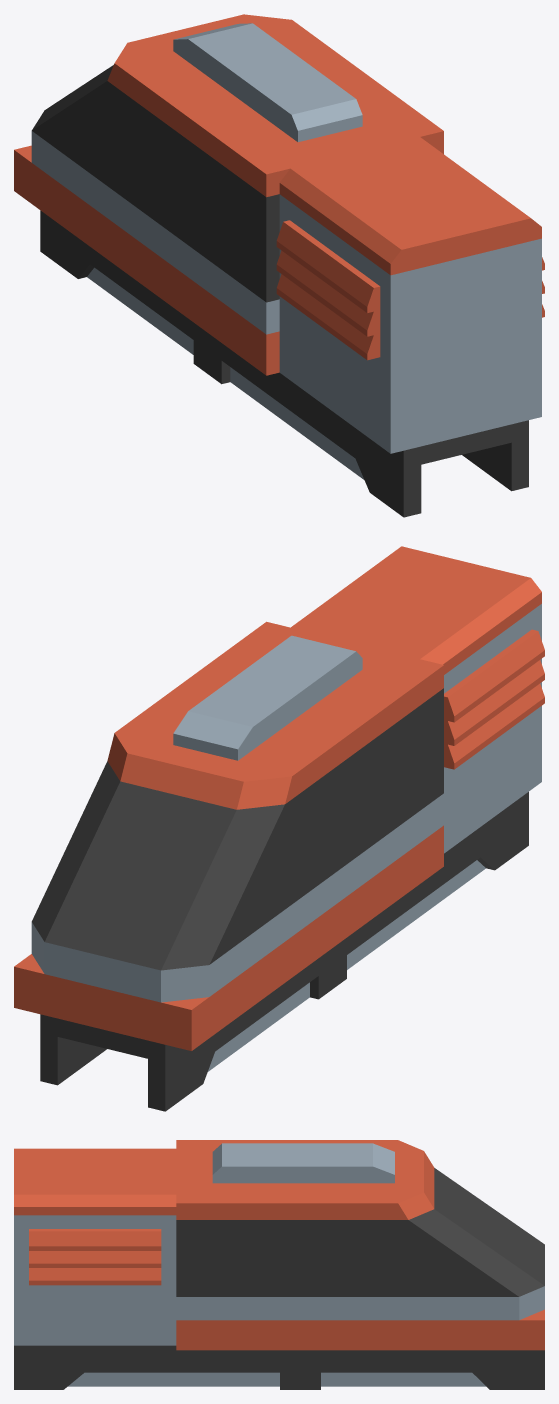
The model's file is monorailTrain_front_exclusive.fbx.
The picture shows the model from 3 angles, top to bottom: view 1: azimuth 30°, elevation 25°; view 2: azimuth 150°, elevation 25°; view 3: azimuth 270°, elevation 25°; orthographic projection. The views are drawn at different scales.
Parts seen in each view (by area): view 1: monorailTrain_front_exclusive; view 2: monorailTrain_front_exclusive; view 3: monorailTrain_front_exclusive.
Part boxes in pixels (x1,y1,x2,y2): monorailTrain_front_exclusive: (14, 14, 544, 517); monorailTrain_front_exclusive: (14, 546, 544, 1111); monorailTrain_front_exclusive: (14, 1140, 544, 1389).
Size of the model in its own units: 4.06 by 6.36 by 14.4.
